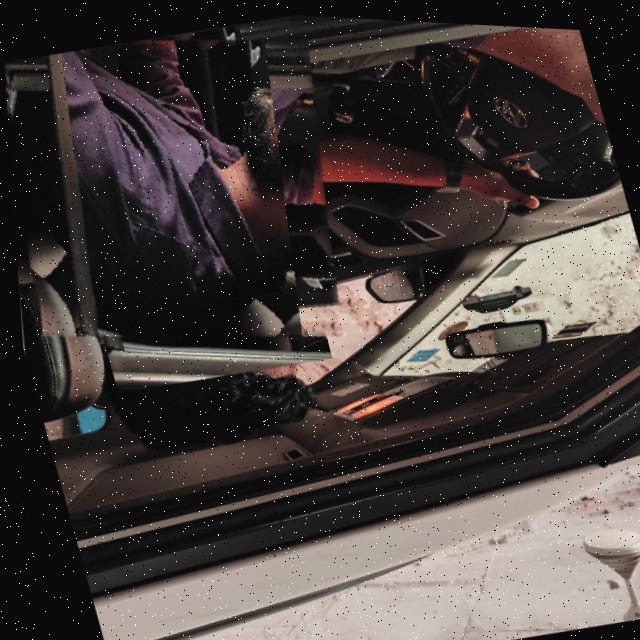no-seatbelt: (0, 0, 371, 382)
